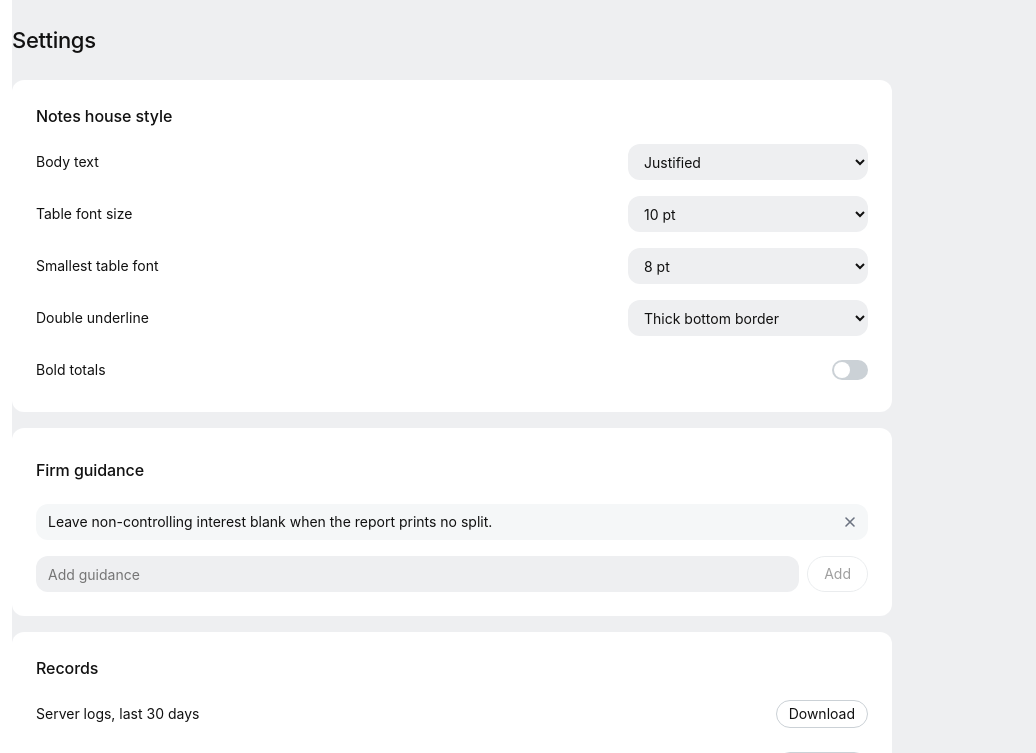
it: Settings page › lets an admin add a line of firm guidance as a new version
In the field named "Add to firm guidance": (418, 574) [36,556,799,592], type "Goods in transit are part of inventories."
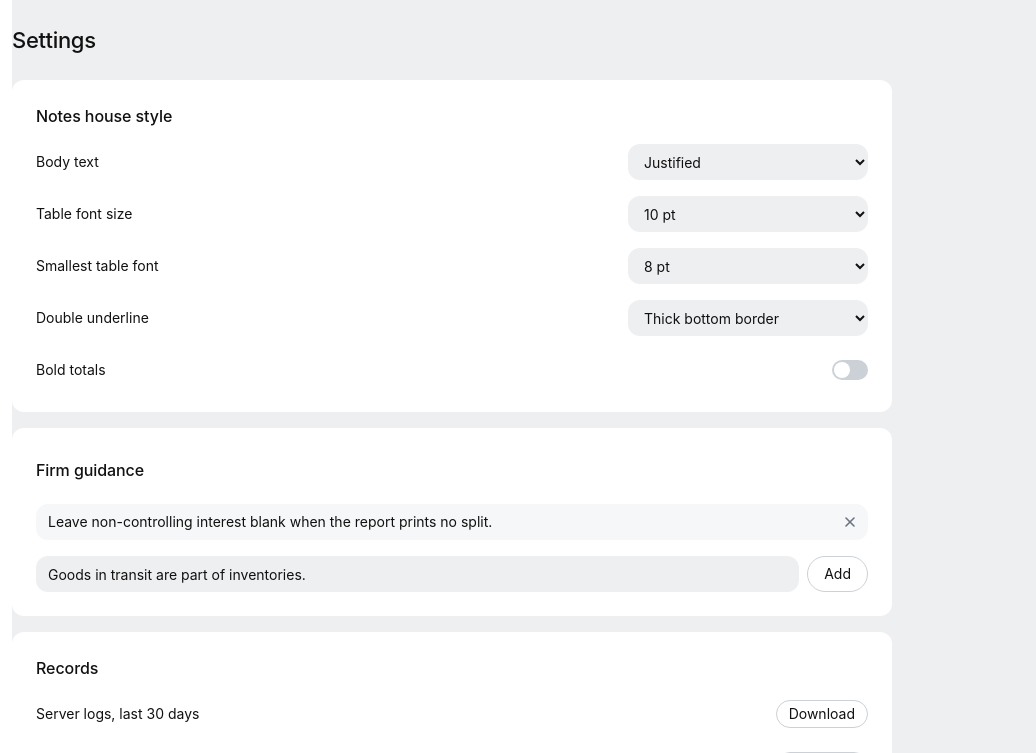
Click the button "Add": (838, 574) [807,556,868,592]
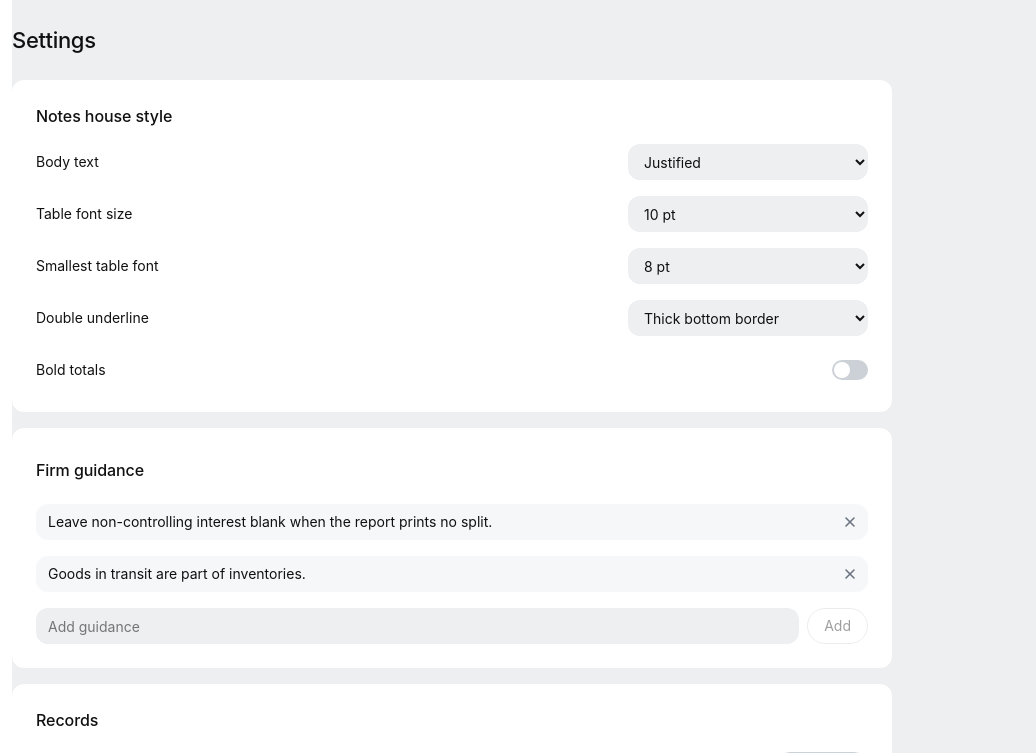
Check: the text "Goods in transit are part of inventories." is shown, box [48,565,306,582]
